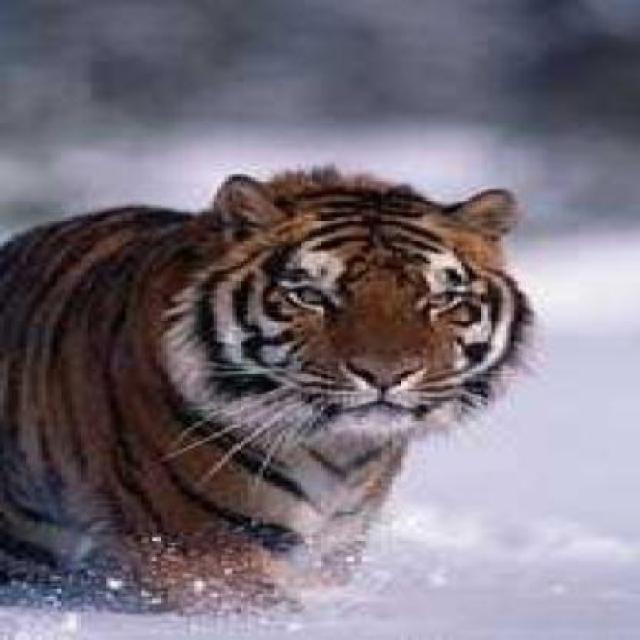tiger: (0, 162, 539, 617)
